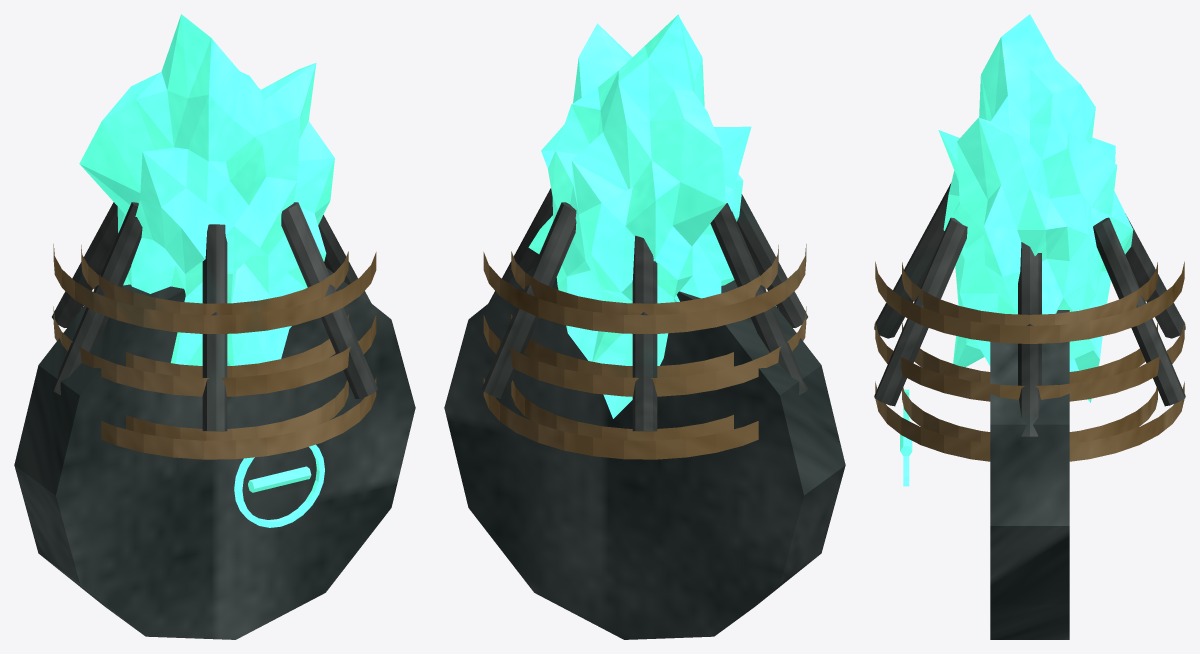
File: 0983_offering_relic_08.glb
The picture shows the model from 3 angles, left to right: view 1: azimuth 30°, elevation 25°; view 2: azimuth 150°, elevation 25°; view 3: azimuth 270°, elevation 25°; orthographic projection. The views are drawn at different scales.
Parts seen in each view (by area): view 1: stone_dark, glow, brass, iron; view 2: stone_dark, glow, brass, iron; view 3: glow, brass, stone_dark, iron.
Part boxes in pixels (x1,y1,x2,y2): stone_dark: (14,267,415,639); glow: (79,14,334,527); brass: (53,244,376,459); iron: (52,202,377,431); stone_dark: (444,267,845,639); glow: (528,14,751,418); brass: (483,244,806,459); iron: (482,188,807,431); glow: (900,14,1133,486); brass: (875,261,1184,461); stone_dark: (990,310,1069,639); iron: (874,183,1185,436).
Size of the model in its own units: 0.9 by 1.48 by 0.7056.
Materials: 4 (4 with a texture image).
